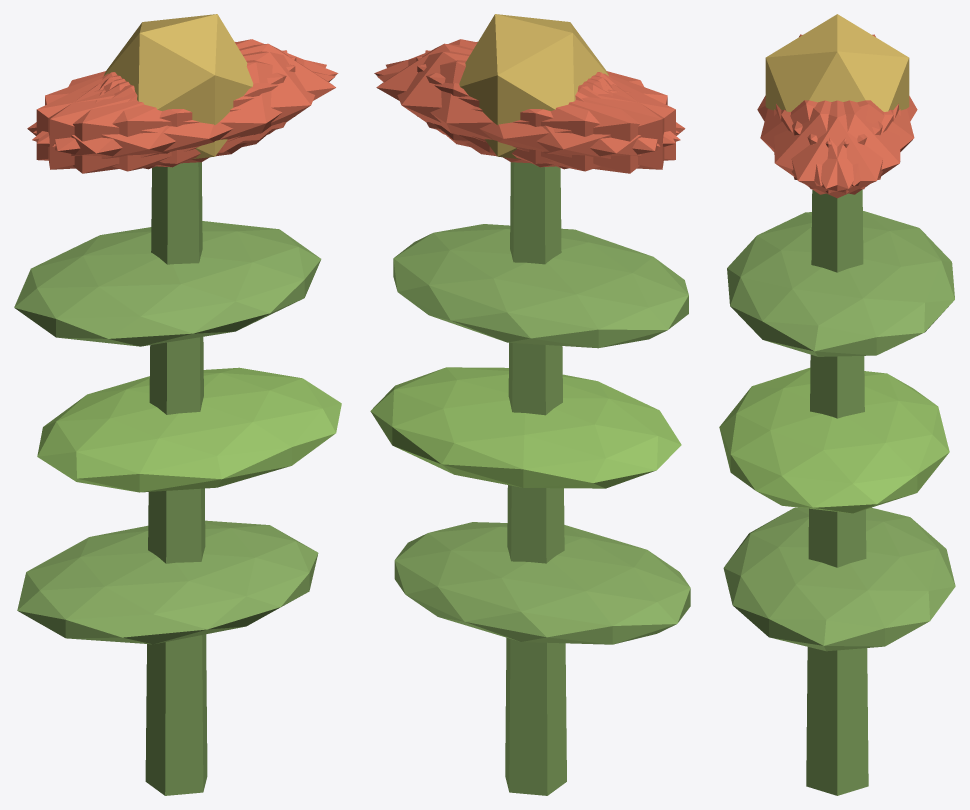
File: alternanthera-ficoidea.glb
The picture shows the model from 3 angles, left to right: view 1: azimuth 30°, elevation 25°; view 2: azimuth 150°, elevation 25°; view 3: azimuth 270°, elevation 25°; orthographic projection.
Visible parts, largest first — view 1: leaf2, leaf1, leaf0, stem, center, petal1, petal6, petal2, petal5, petal7, petal0, petal4 (+2 smaller); view 2: leaf2, leaf1, leaf0, stem, center, petal8, petal3, petal7, petal4, petal2, petal0, petal5 (+2 smaller); view 3: leaf1, leaf2, leaf0, stem, center, petal0, petal4, petal5, petal1, petal8.
Part boxes in pixels (bbox=[...]): leaf2: bbox=[14, 221, 321, 346]; leaf1: bbox=[37, 367, 341, 492]; leaf0: bbox=[17, 520, 318, 644]; stem: bbox=[145, 162, 207, 795]; center: bbox=[104, 14, 253, 159]; petal1: bbox=[32, 60, 335, 171]; petal6: bbox=[27, 73, 246, 173]; petal2: bbox=[48, 50, 287, 169]; petal5: bbox=[52, 51, 326, 163]; petal7: bbox=[36, 56, 296, 167]; petal0: bbox=[103, 43, 335, 153]; petal4: bbox=[33, 39, 338, 143]; leaf2: bbox=[393, 224, 688, 348]; leaf1: bbox=[370, 367, 681, 488]; leaf0: bbox=[394, 522, 690, 644]; stem: bbox=[505, 162, 566, 795]; center: bbox=[459, 14, 608, 159]; petal8: bbox=[377, 60, 680, 171]; petal3: bbox=[465, 73, 685, 173]; petal7: bbox=[425, 50, 664, 169]; petal4: bbox=[386, 51, 659, 163]; petal2: bbox=[416, 56, 675, 167]; petal0: bbox=[376, 43, 608, 153]; petal5: bbox=[374, 39, 679, 143]; leaf1: bbox=[719, 368, 949, 513]; leaf2: bbox=[727, 211, 954, 356]; leaf0: bbox=[723, 507, 955, 651]; stem: bbox=[806, 189, 868, 795]; center: bbox=[765, 14, 909, 111]; petal0: bbox=[776, 100, 898, 198]; petal4: bbox=[781, 100, 900, 194]; petal5: bbox=[774, 100, 893, 194]; petal1: bbox=[760, 100, 882, 186]; petal8: bbox=[792, 100, 914, 186].
Bounding box in the file's own units: 0.149 × 0.3529 × 0.1009.
